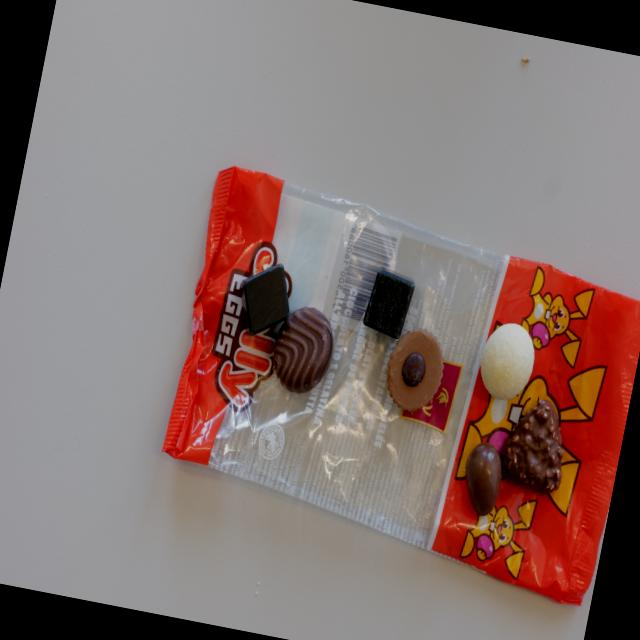Comtesse: (474, 318, 539, 405)
Jelly_Milk: (456, 442, 509, 518)
Noblesse: (380, 326, 450, 416)
Noir_authentique: (268, 302, 340, 398)
Triangolo: (492, 392, 575, 500)
